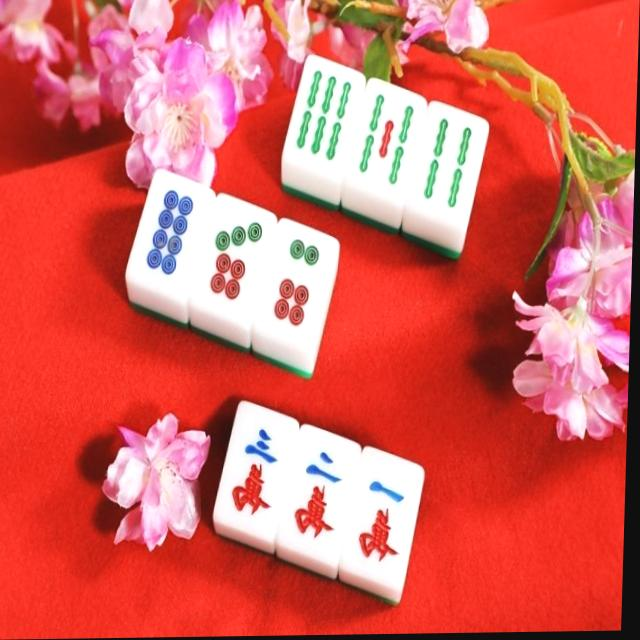m1: (341, 453, 420, 574)
m2: (283, 431, 362, 553)
m3: (222, 410, 298, 526)
s4: (409, 110, 486, 217)
s5: (346, 81, 424, 195)
s6: (281, 59, 362, 173)
t6: (256, 223, 333, 336)
t7: (194, 198, 274, 312)
t8: (137, 173, 210, 286)
